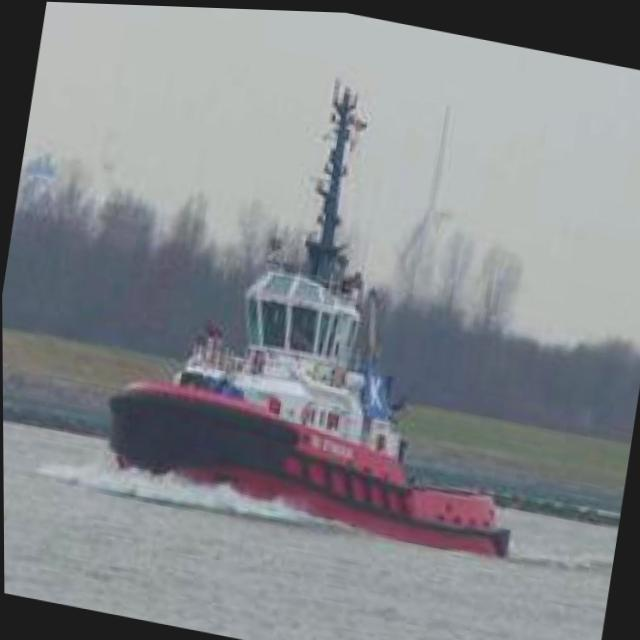ship2: (106, 84, 511, 557)
